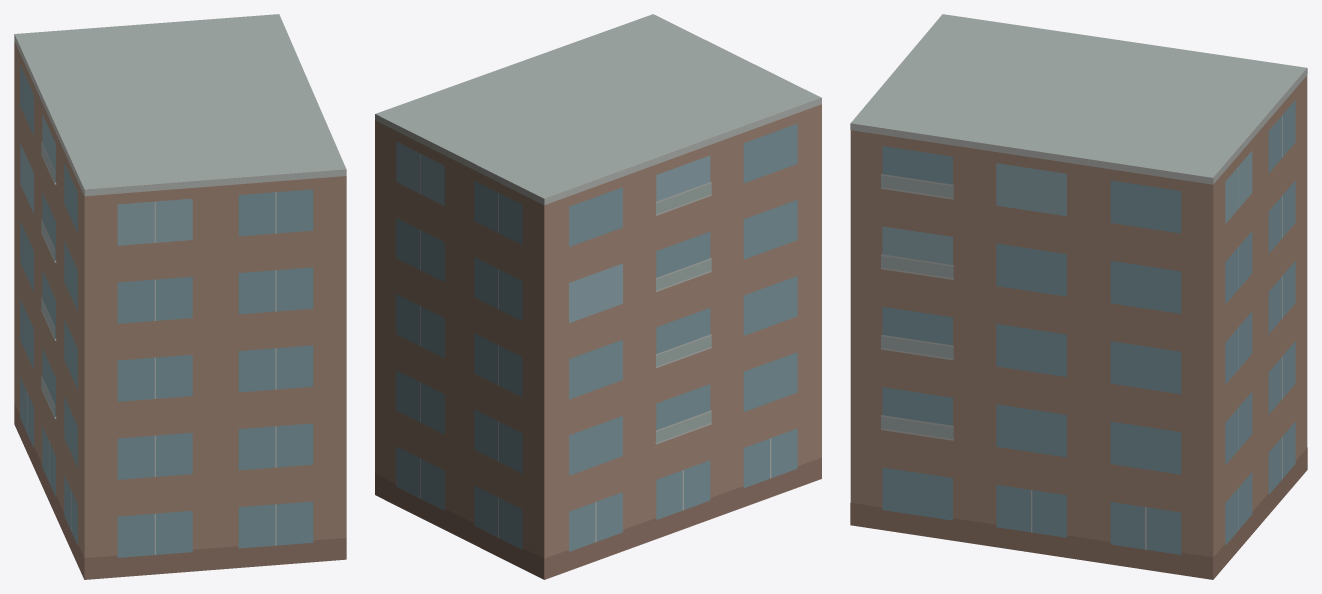
The model's file is survey-upis-32851052.glb.
3 renders of one model, left to right at view 1: azimuth 30°, elevation 25°; view 2: azimuth 150°, elevation 25°; view 3: azimuth 270°, elevation 25°, orthographic. The views are drawn at different scales.
Parts seen in each view (by area): view 1: survey-upis-32851052.tmp; view 2: survey-upis-32851052.tmp; view 3: survey-upis-32851052.tmp.
Boxes of the visible parts, left/top/right/bottom form: survey-upis-32851052.tmp: left=14, top=14, right=346, bottom=579; survey-upis-32851052.tmp: left=375, top=14, right=821, bottom=579; survey-upis-32851052.tmp: left=850, top=14, right=1307, bottom=579.
Bounding box in the file's own units: 12.62 × 14.42 × 14.87.
